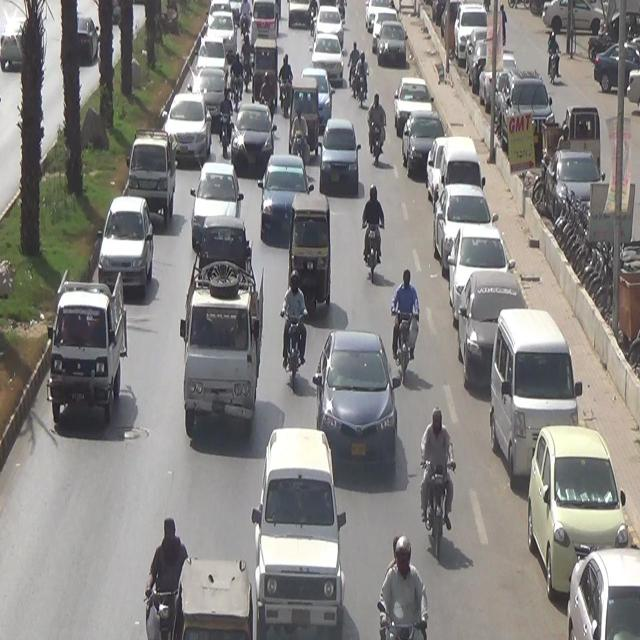car: (256, 427, 355, 638), (304, 323, 400, 475), (90, 194, 158, 306), (154, 86, 218, 172), (254, 156, 313, 245), (184, 144, 239, 238), (319, 115, 363, 201), (227, 97, 273, 177), (309, 38, 340, 94), (317, 10, 347, 54)
motorbike: (128, 496, 187, 640), (418, 402, 459, 566), (371, 532, 433, 640), (389, 265, 423, 399), (278, 262, 310, 390), (362, 184, 388, 295), (368, 94, 389, 180), (292, 105, 314, 165), (278, 60, 297, 127)
truck: (31, 248, 144, 434), (175, 234, 272, 444)
